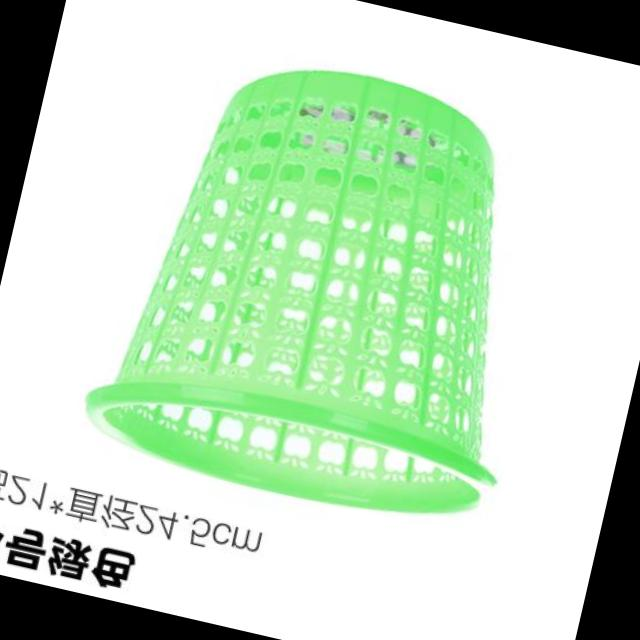dustbin: (66, 19, 586, 550)
